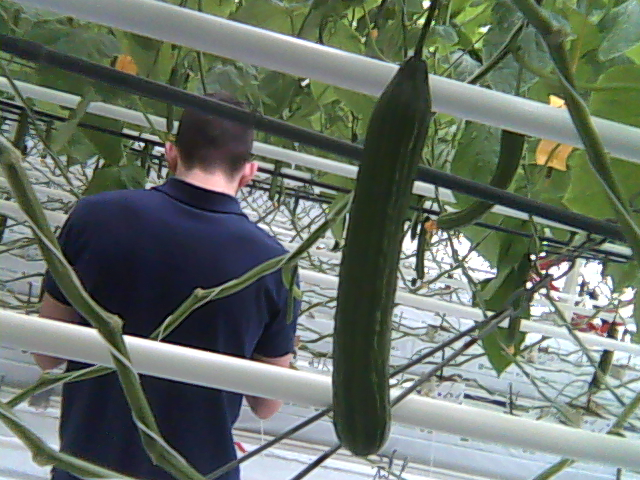concombre: (323, 40, 436, 463)
